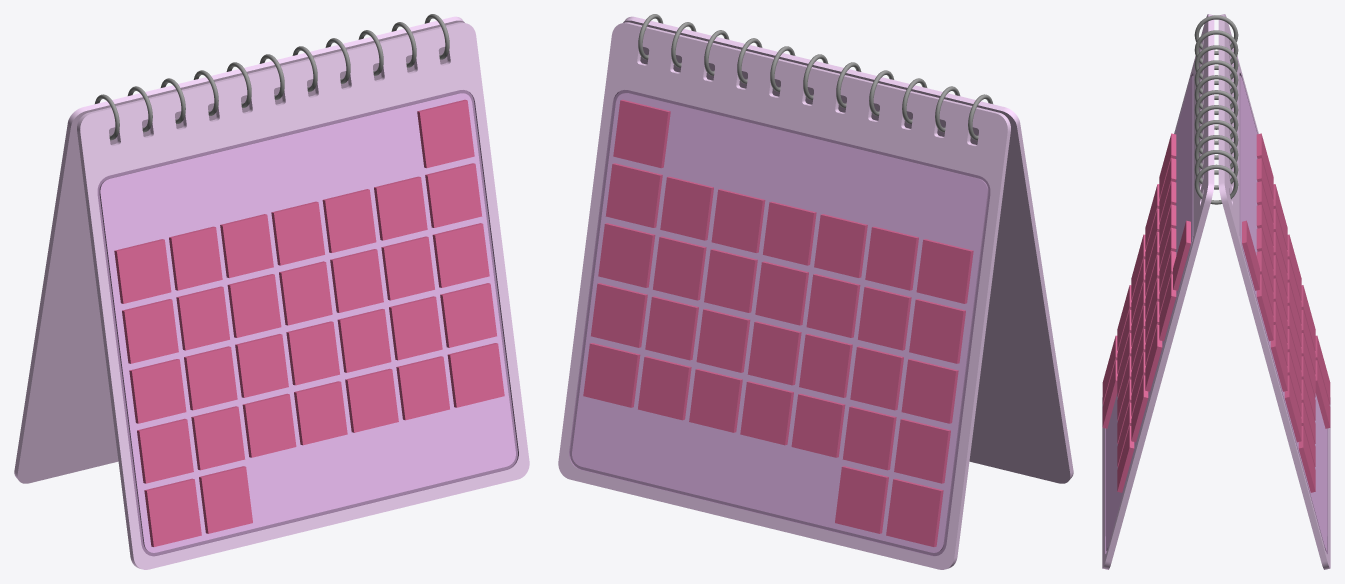
Rendered from Calendario.fbx.
The picture shows the model from 3 angles, left to right: view 1: azimuth 30°, elevation 25°; view 2: azimuth 150°, elevation 25°; view 3: azimuth 270°, elevation 25°; orthographic projection. The views are drawn at different scales.
Parts seen in each view (by area): view 1: Plane; view 2: Plane; view 3: Plane.
Part boxes in pixels (left/top/right/bottom): Plane: left=14, top=14, right=529, bottom=569; Plane: left=558, top=14, right=1073, bottom=569; Plane: left=1102, top=14, right=1330, bottom=569.
Size of the model in its own units: 200 by 205 by 108.
